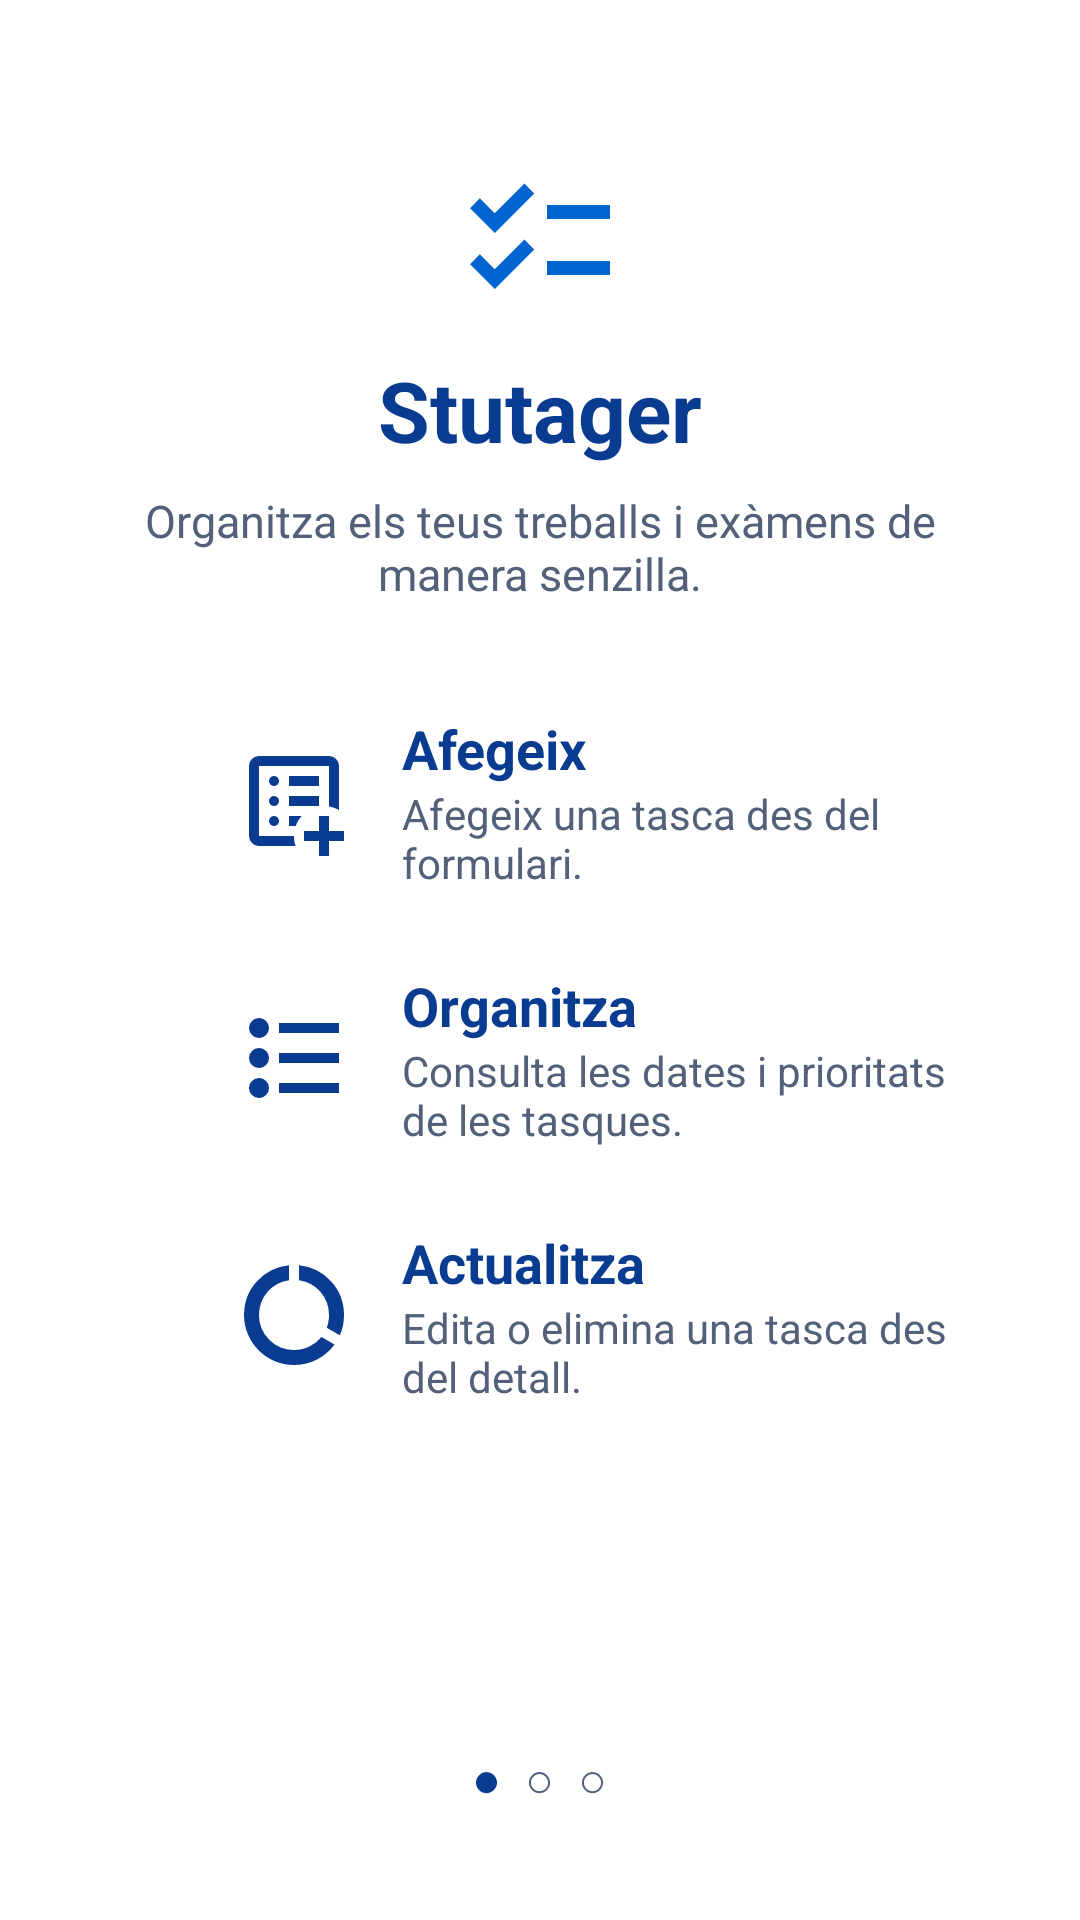

Named icons in this screenshot (1080×1920) and their bounding boxes, (x1, y1, x2, y2):
add document: (249, 756, 344, 856)
checklist: (470, 183, 610, 289)
list: (249, 1018, 339, 1098)
